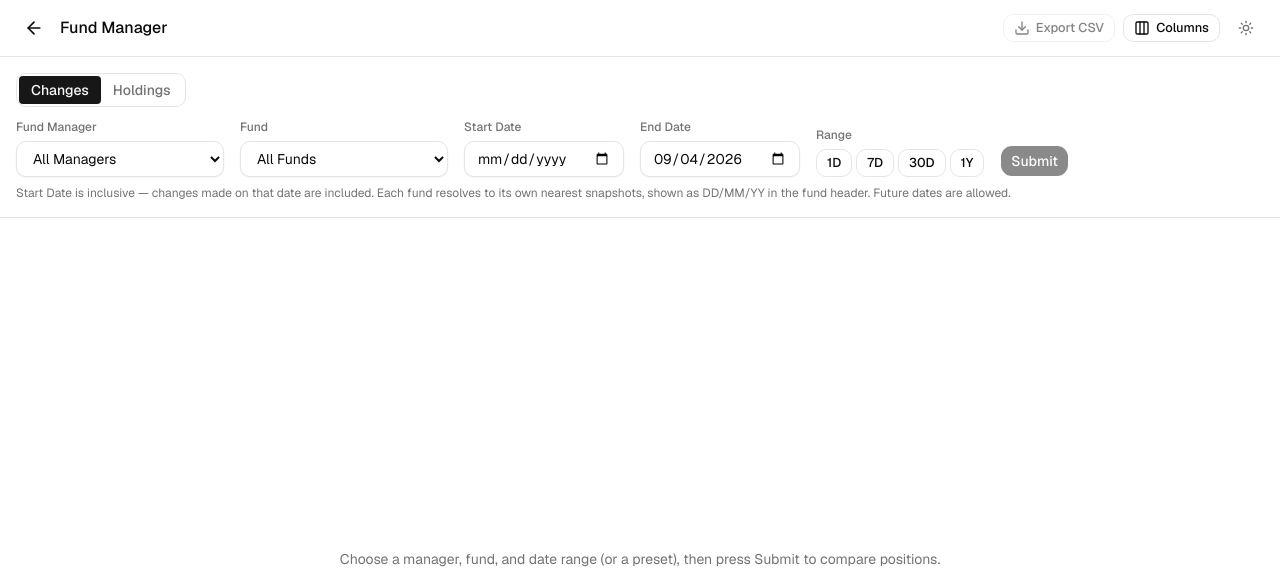
Test: preset End follows the scope's latest date › moves End back when the user SELECTS a manager after End was seeded
The width and height of the screenshot is (1280, 584).
Check: the date field showing "2026-09-04" is shown, box x1=640 y1=141 x2=800 y2=177
Select "JP Morgan" in the dropdown labelled "Fund Manager" at (120, 159), box x1=16 y1=141 x2=224 y2=177
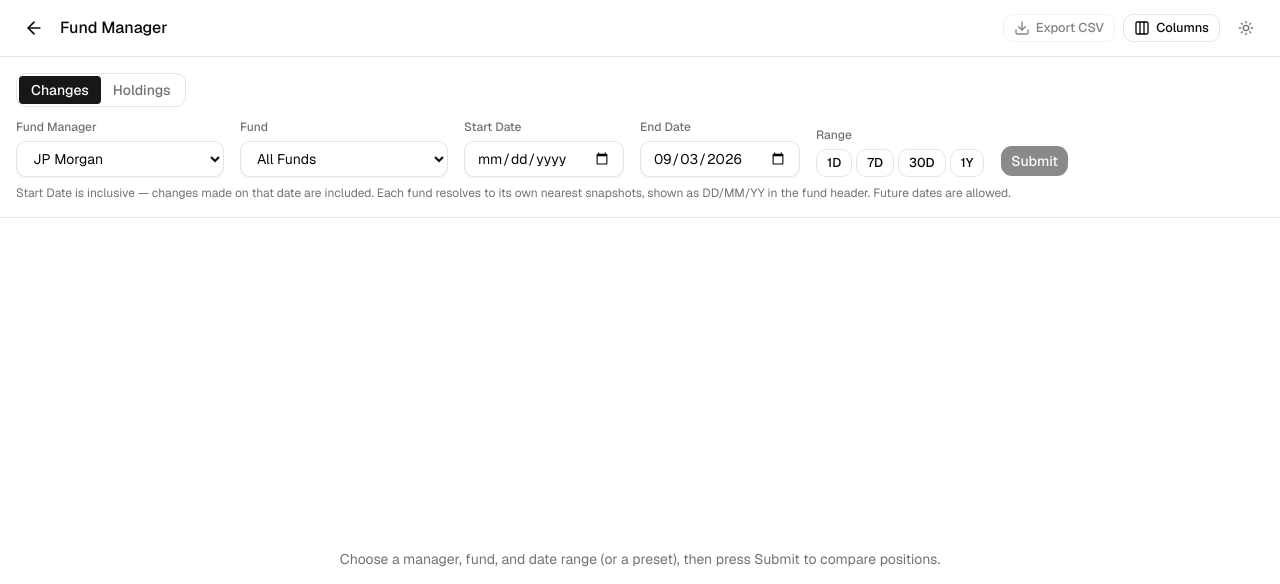
Check: the field showing "2026-09-04" is not shown
Check: the date field showing "2026-09-03" is shown, box x1=640 y1=141 x2=800 y2=177
